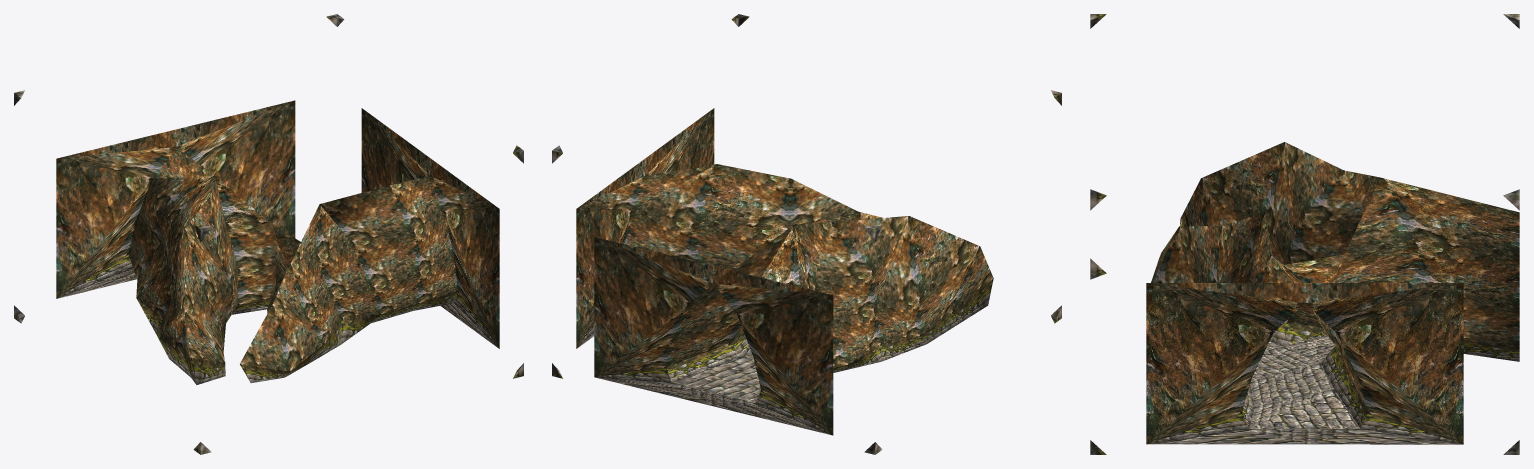
File: lbc_2od.glb
The picture shows the model from 3 angles, left to right: view 1: azimuth 30°, elevation 25°; view 2: azimuth 150°, elevation 25°; view 3: azimuth 270°, elevation 25°; orthographic projection. The views are drawn at different scales.
Parts seen in each view (by area): view 1: lbc_2od-col; view 2: lbc_2od-col; view 3: lbc_2od-col.
Part boxes in pixels (x1,y1,x2,y2): lbc_2od-col: (14,14,523,454); lbc_2od-col: (552,14,1061,454); lbc_2od-col: (1090,14,1519,454).
Bounding box in the file's own units: 15 × 10 × 15.
Materials: 4 (4 with a texture image).
